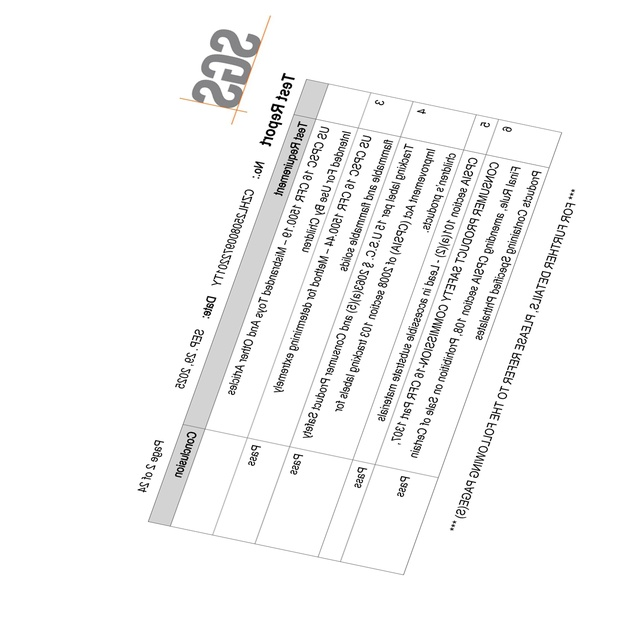sgs: (192, 28, 260, 108)
